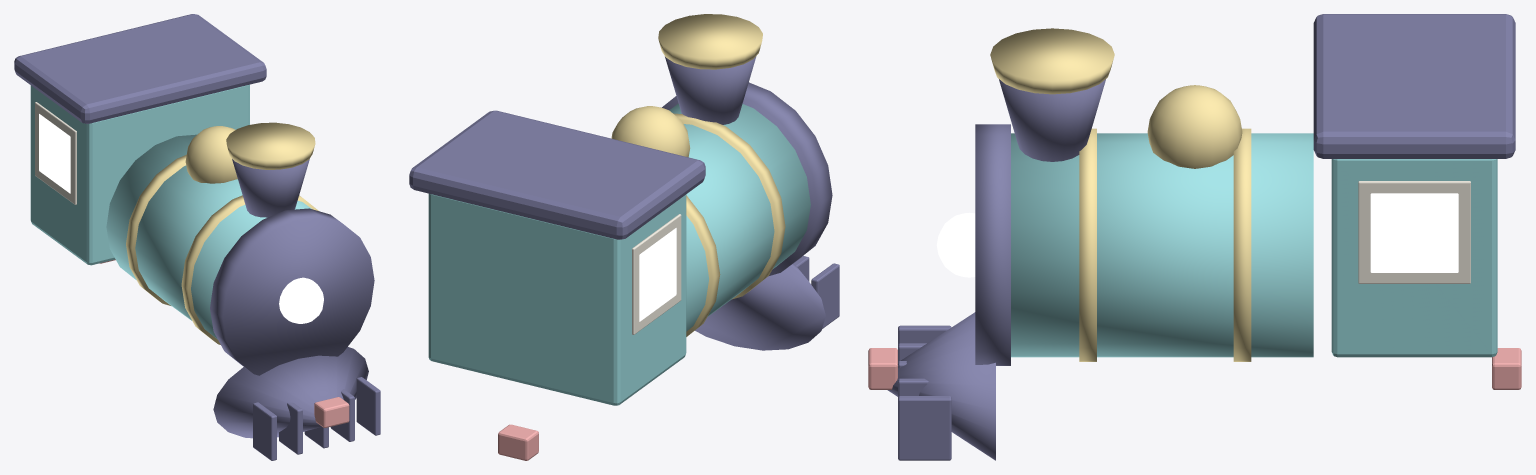
File: loco_body.glb
3 renders of one model, left to right at view 1: azimuth 30°, elevation 25°; view 2: azimuth 150°, elevation 25°; view 3: azimuth 270°, elevation 25°, orthographic. The views are drawn at different scales.
Visible parts, largest first — view 1: smokebox, cab_roof, boiler, cab, cow, funnel_lip, funnel, dome, win0, band1, band0, headlamp (+6 smaller); view 2: cab, cab_roof, boiler, cow, smokebox, funnel_lip, funnel, dome, band1, win0, trim0, band0 (+2 smaller); view 3: boiler, cab_roof, cab, smokebox, cow, win1, funnel_lip, dome, funnel, trim1, band0, band1 (+5 smaller).
Part boxes in pixels (x1=…): smokebox: x1=210, y1=208, x2=374, y2=375; cab_roof: x1=14, y1=14, x2=266, y2=123; boiler: x1=106, y1=134, x2=311, y2=339; cab: x1=30, y1=84, x2=249, y2=265; cow: x1=213, y1=347, x2=368, y2=438; funnel_lip: x1=226, y1=122, x2=315, y2=169; funnel: x1=232, y1=159, x2=309, y2=217; dome: x1=185, y1=126, x2=237, y2=183; win0: x1=39, y1=114, x2=70, y2=193; band1: x1=181, y1=195, x2=318, y2=344; band0: x1=126, y1=155, x2=186, y2=305; headlamp: x1=279, y1=277, x2=323, y2=323; cab: x1=428, y1=193, x2=686, y2=405; cab_roof: x1=409, y1=110, x2=705, y2=239; boiler: x1=669, y1=103, x2=810, y2=331; cow: x1=695, y1=263, x2=825, y2=350; smokebox: x1=662, y1=82, x2=832, y2=276; funnel_lip: x1=658, y1=14, x2=762, y2=69; funnel: x1=665, y1=56, x2=756, y2=124; dome: x1=611, y1=106, x2=690, y2=157; band1: x1=673, y1=113, x2=785, y2=299; win0: x1=639, y1=228, x2=676, y2=321; trim0: x1=632, y1=214, x2=681, y2=334; band0: x1=686, y1=195, x2=720, y2=336; boiler: x1=1011, y1=133, x2=1313, y2=357; cab_roof: x1=1313, y1=14, x2=1515, y2=158; cab: x1=1331, y1=159, x2=1497, y2=357; smokebox: x1=975, y1=124, x2=1010, y2=365; cow: x1=887, y1=312, x2=995, y2=460; win1: x1=1370, y1=193, x2=1458, y2=272; funnel_lip: x1=990, y1=28, x2=1114, y2=94; dome: x1=1147, y1=85, x2=1242, y2=168; funnel: x1=999, y1=79, x2=1105, y2=161; trim1: x1=1358, y1=181, x2=1470, y2=283; band0: x1=1233, y1=128, x2=1251, y2=361; band1: x1=1079, y1=128, x2=1096, y2=361.
Bounding box in the file's own units: 5 × 7.19 × 11.
